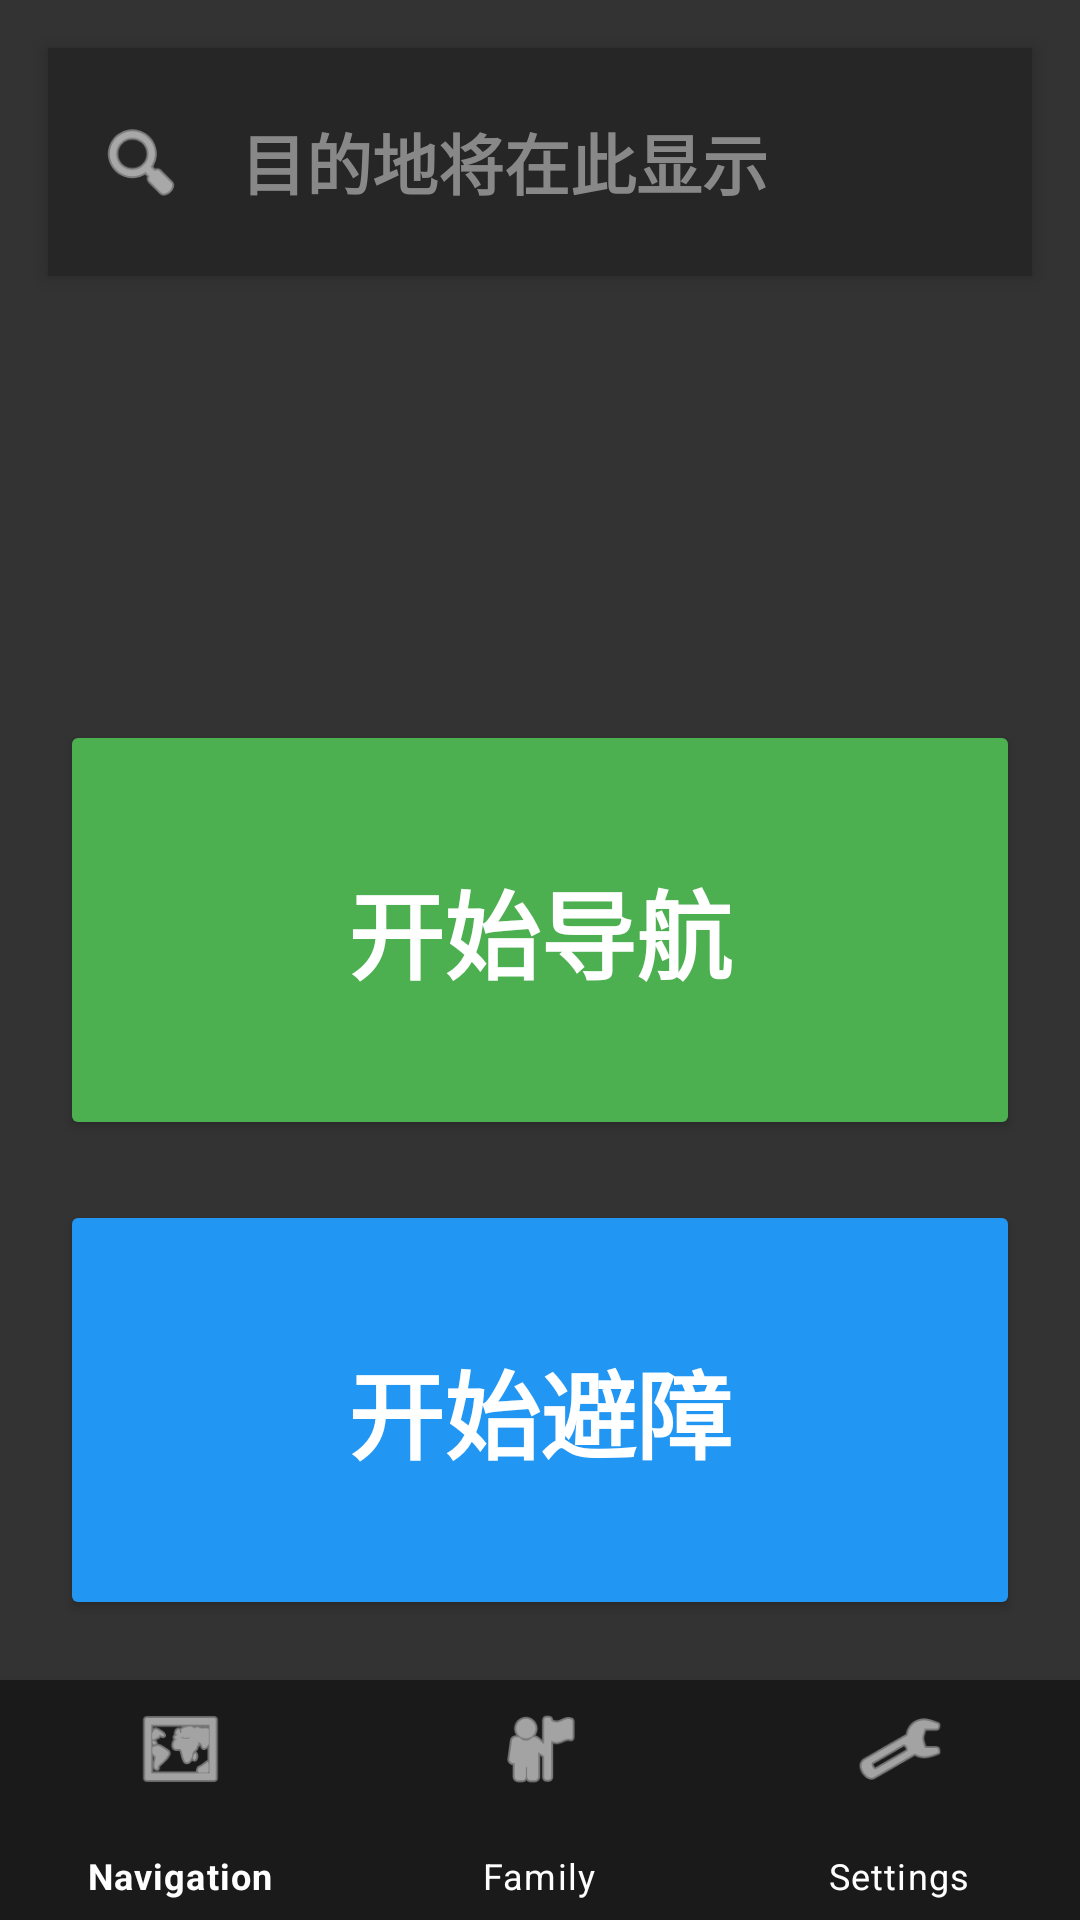

Locate icon controls on the screen. Image size 1080px×1920px, boxes as (x1, y1, x2, y2).
search: (108, 129, 174, 196)
